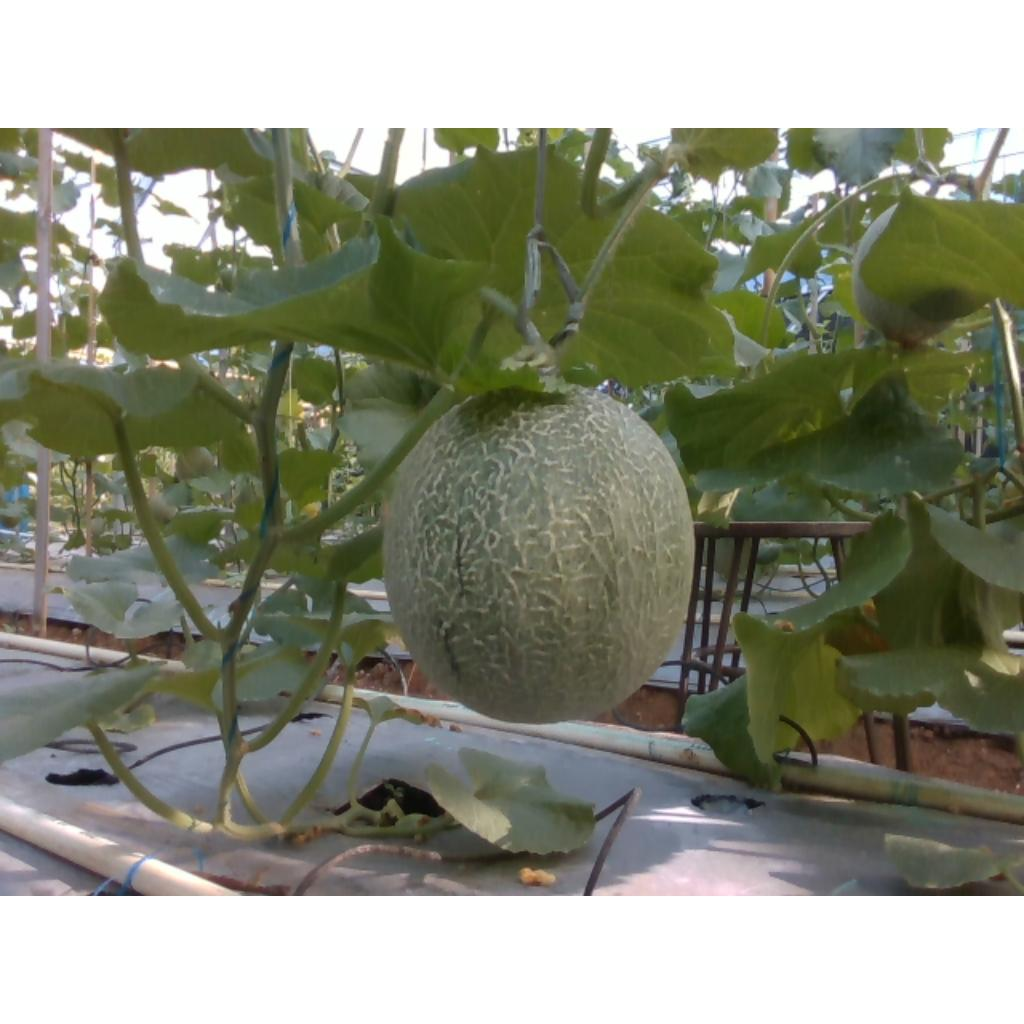melon: (386, 389, 696, 722)
